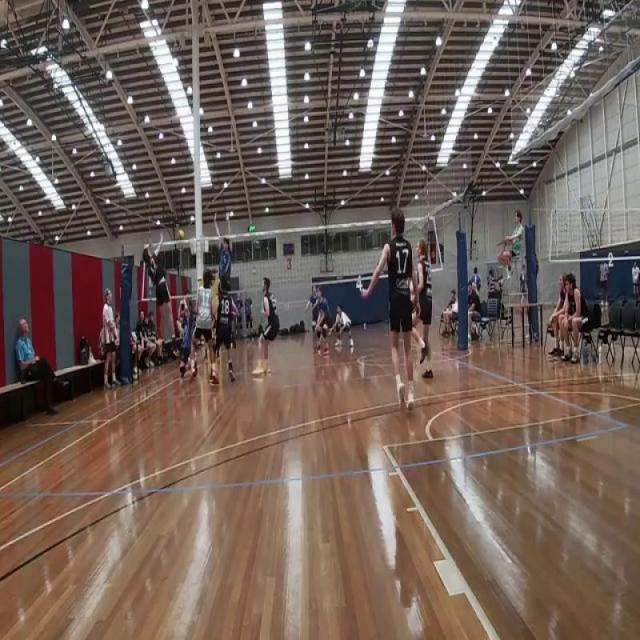volleyball: (176, 228, 184, 241)
